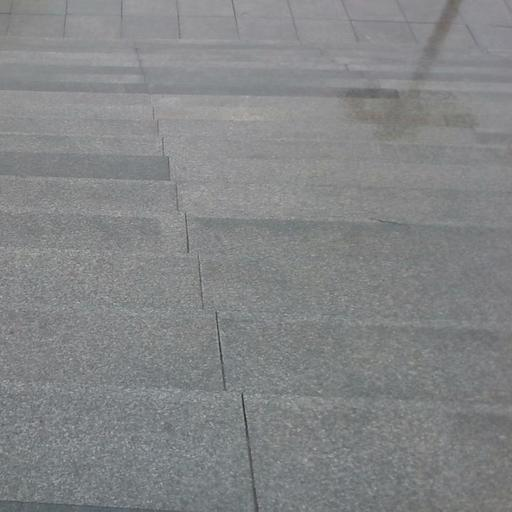stairs: (0, 36, 511, 511)
